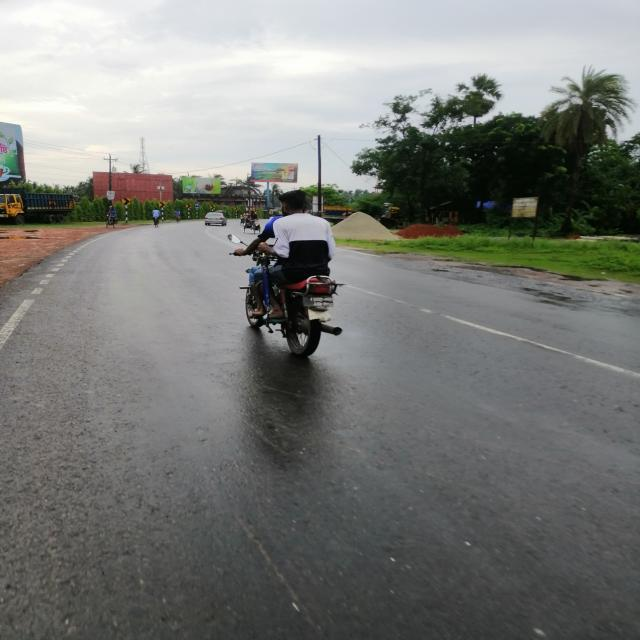Car: (206, 211, 228, 229)
Motorbike: (226, 232, 359, 364)
Truck: (1, 189, 79, 225)
